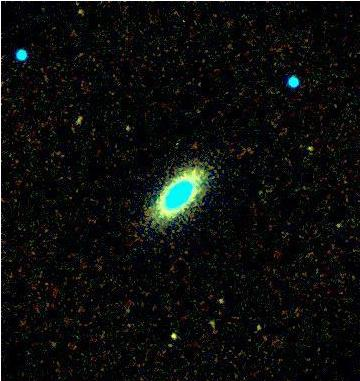star: (62, 0, 92, 28)
